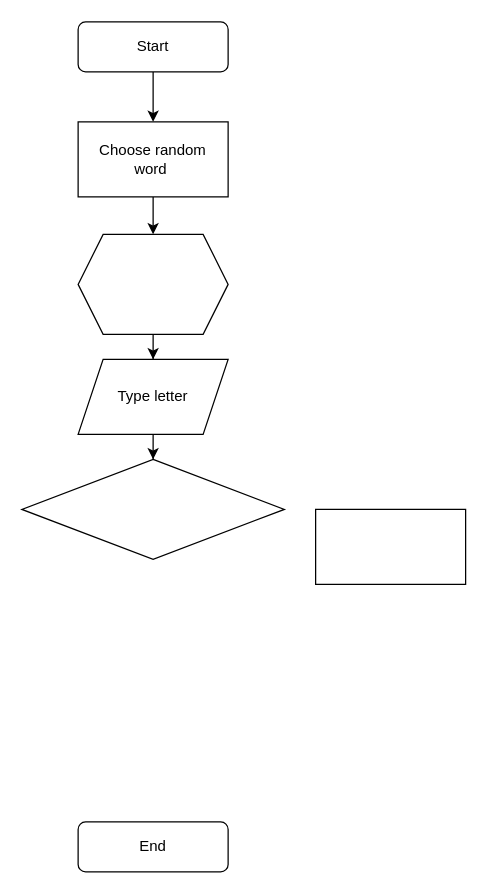
Image size: 488x894. Some labels were removed from this diagram. Each missing label, with the centre of its shape:
"Letter in word" goes at [152,508].
"word not answer" goes at [152,283].
